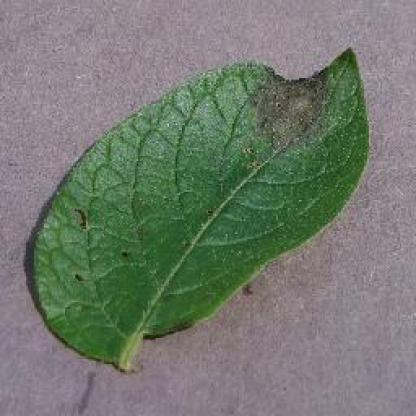bad leaf: (20, 38, 386, 375)
